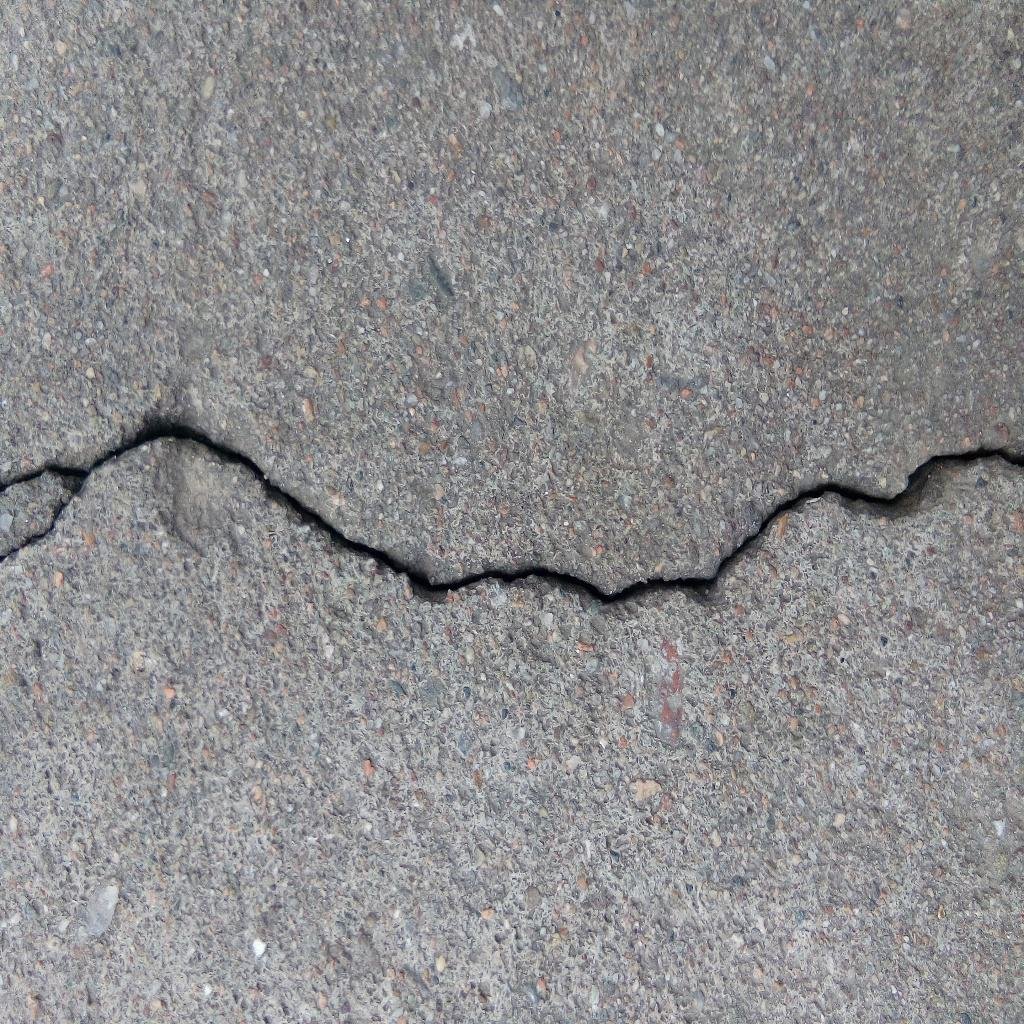Crack: (1, 418, 1024, 610)
